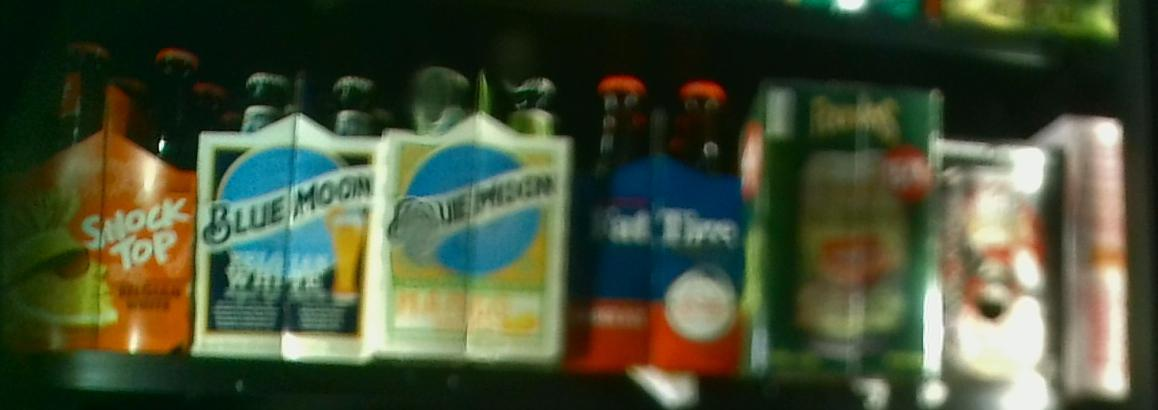bottle: (3, 33, 188, 356), (755, 76, 941, 384), (382, 63, 557, 369), (198, 63, 374, 365), (594, 70, 744, 367), (943, 139, 1069, 396)
